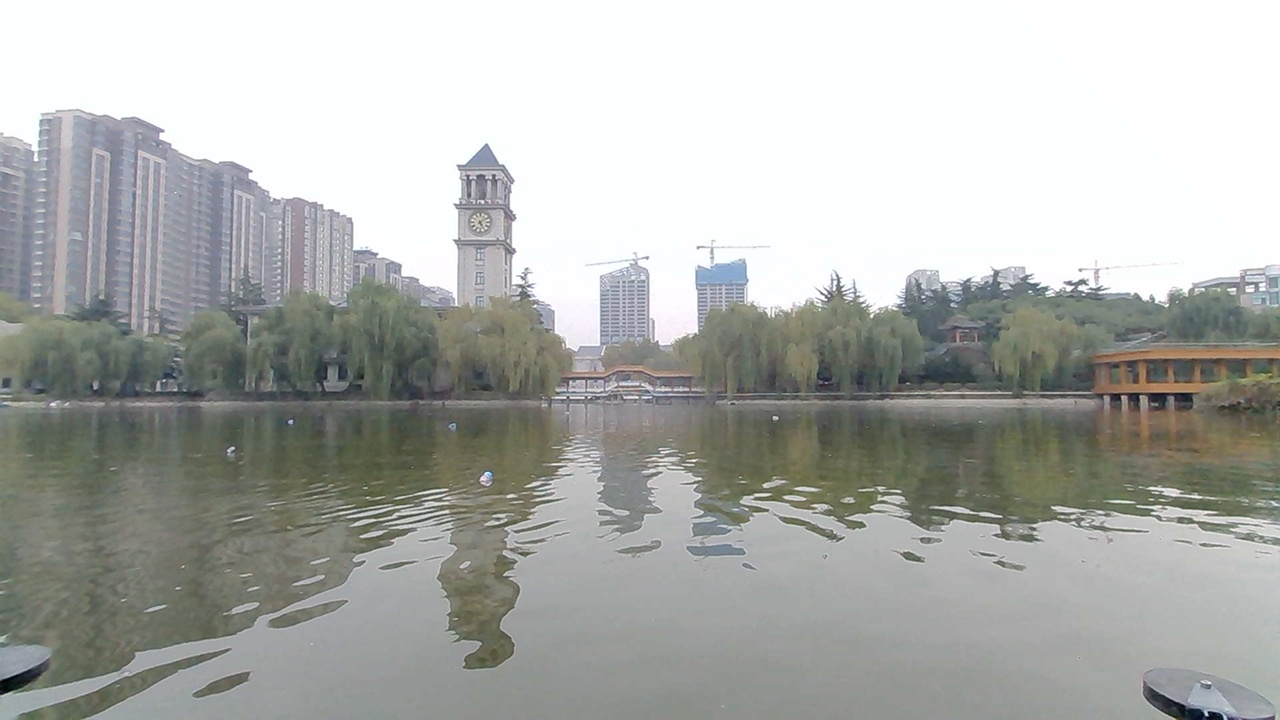bottle: (482, 459, 542, 492), (208, 435, 249, 458), (758, 407, 797, 430), (433, 409, 470, 433), (273, 409, 309, 433)
